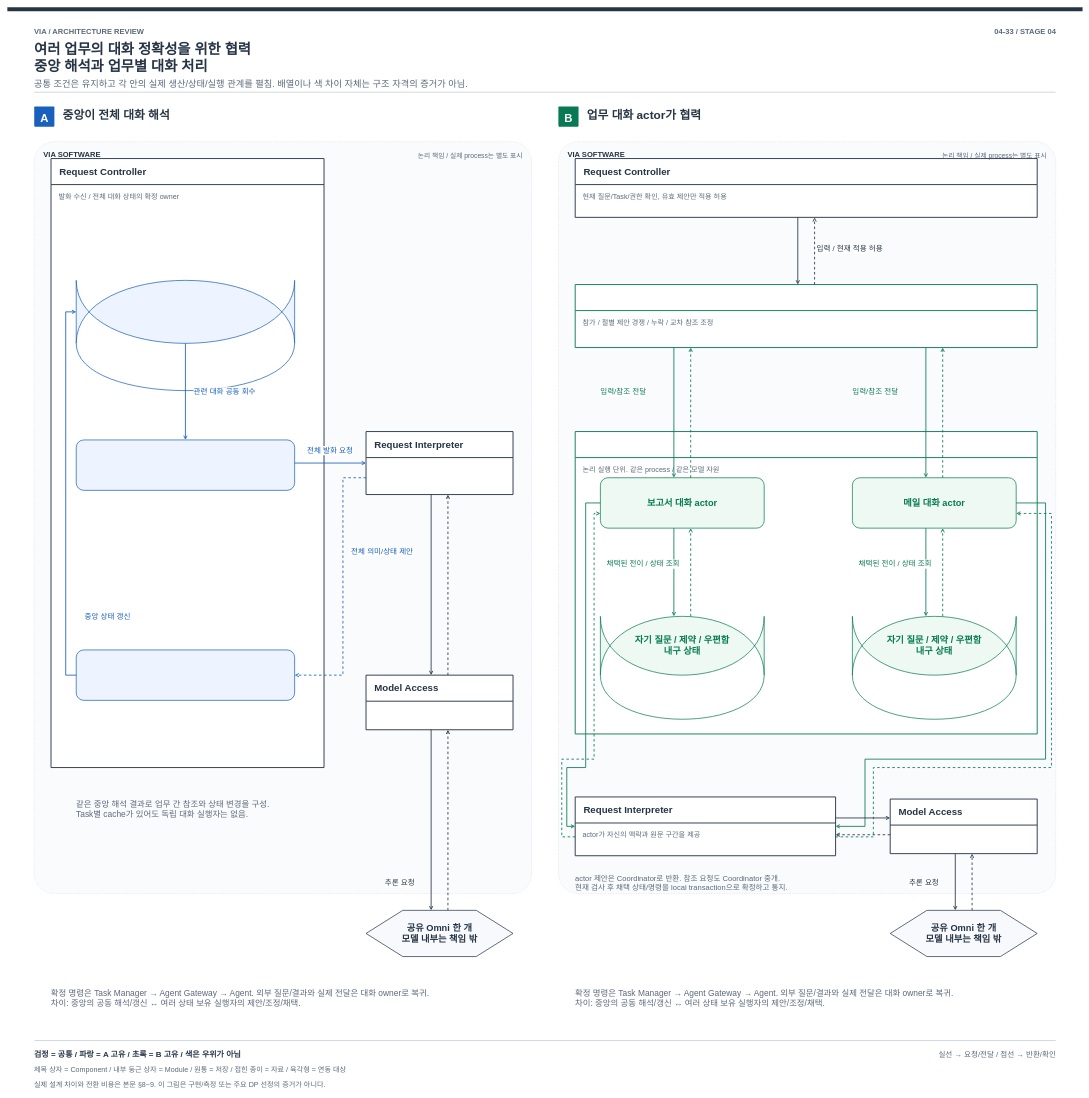
The diagram is 1089 pixels wide and 1098 high, and some of its shapes have lost their labels. The box of each missing label's shape, as (x1, y1, x2, y2) in pixels:
Dialogue Coordinator: (575, 284, 1037, 348)
Task Dialogue Runtime: (575, 431, 1037, 734)
대화 상태 / 명령 확정: (76, 649, 295, 701)
전체 발화 해석 조정: (76, 439, 295, 491)
중앙의 대화 관계 / 질문 내구 상태 + 관련 Task cache: (76, 280, 295, 344)
